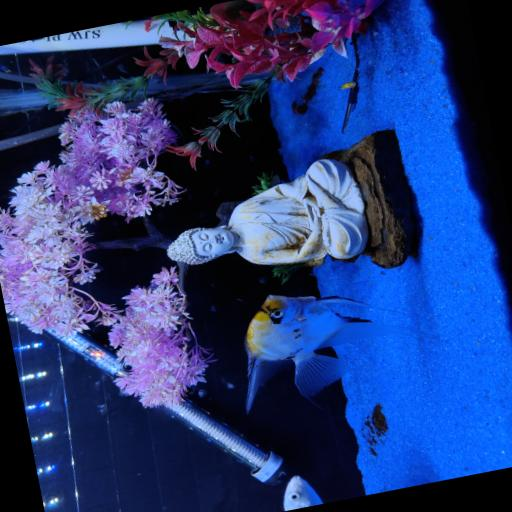Fish: (245, 295, 438, 410), (284, 475, 322, 510), (339, 80, 356, 88)
